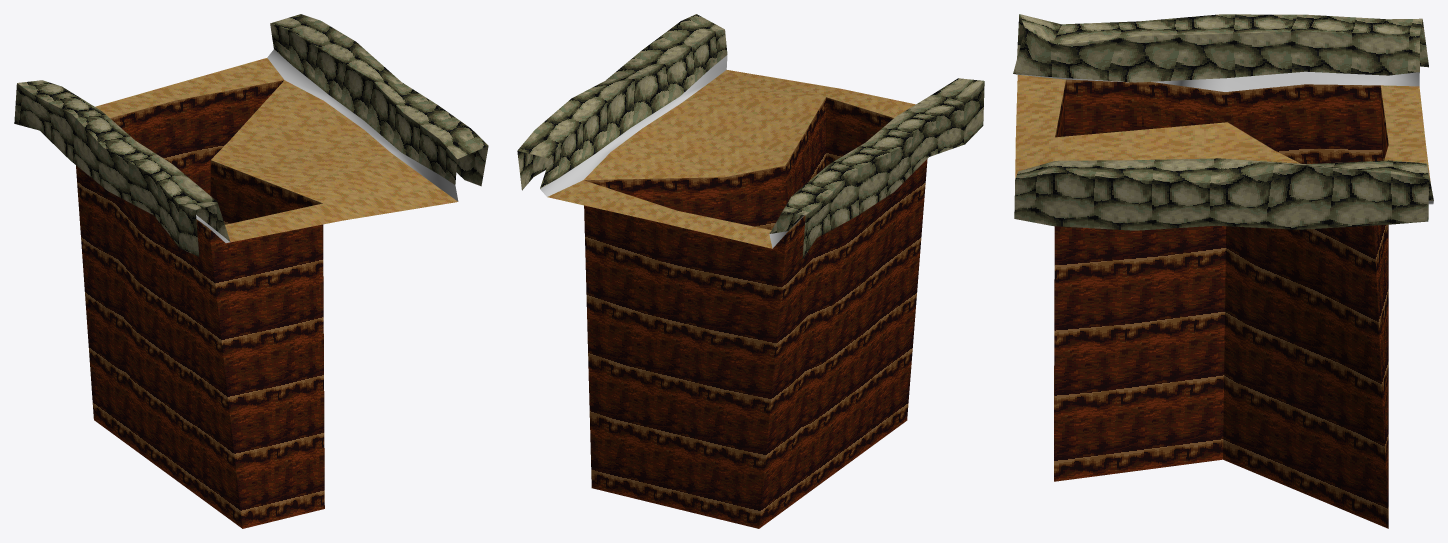
3 renders of one model, left to right at view 1: azimuth 30°, elevation 25°; view 2: azimuth 150°, elevation 25°; view 3: azimuth 270°, elevation 25°, orthographic. The views are drawn at different scales.
Visible parts, largest first — view 1: tv_t2b0e0v4; view 2: tv_t2b0e0v4; view 3: tv_t2b0e0v4.
Boxes of the visible parts, box(x1,y1,x2,y2) form: tv_t2b0e0v4: box(14, 14, 488, 528); tv_t2b0e0v4: box(517, 14, 984, 528); tv_t2b0e0v4: box(1013, 14, 1433, 528).
Size of what is drawn, in the model's own units: 10.37 by 11.31 by 11.69.
